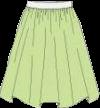Hemline: (0, 95, 99, 107)
Waistline: (26, 1, 72, 3), (26, 6, 72, 8)
